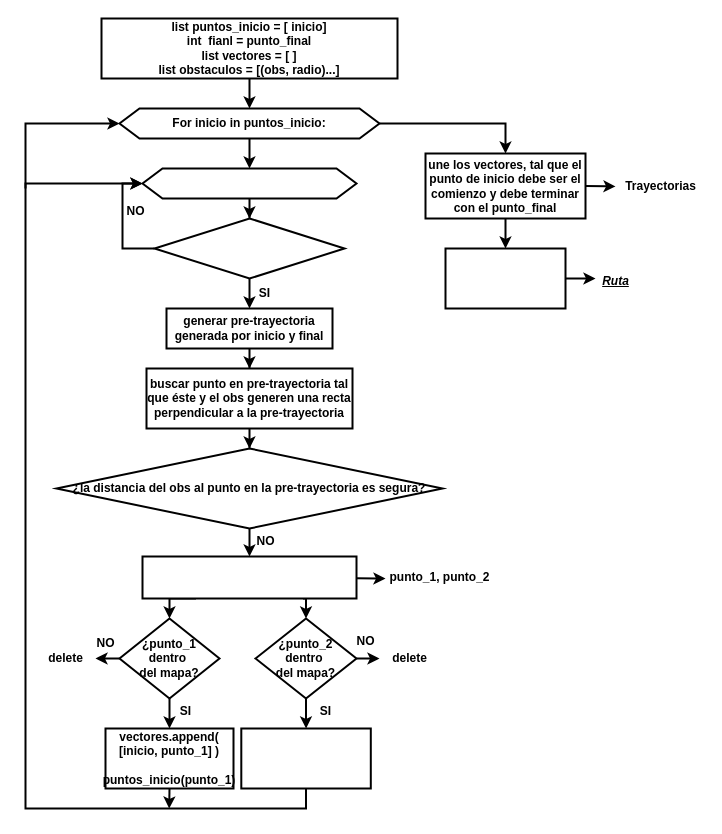
Some shapes in this 722 by 834 pixel diagram are drawn without their labels. Each missing label, with the centre of its shape:
Busca dos puntos perpendiculares a la pre-trayectoria y alejados del obs: (249,577)
Determina la ruta mas corta en las trayectorias encontradas: (505,278)
For obs, radio in obstaculos:: (249,183)
vectores.append( [inicio, punto_2] ) puntos_inicio(punto_2): (305,758)
¿obs está entre inicio y final?: (249,248)
